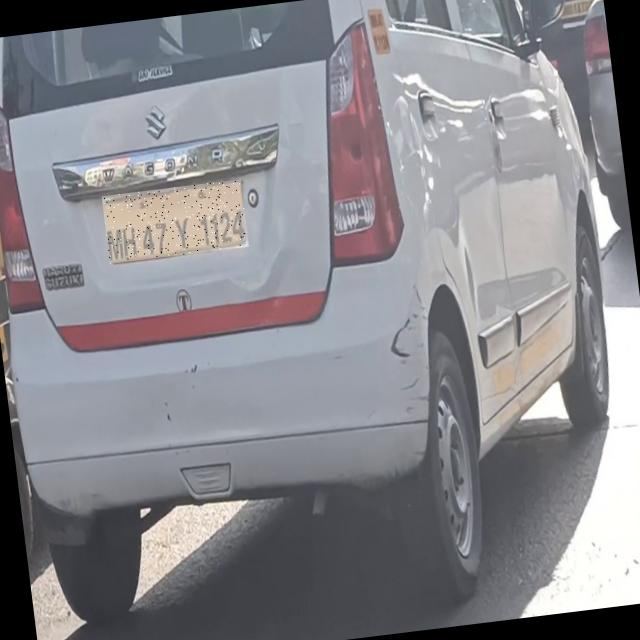Plate: (103, 180, 250, 265)
